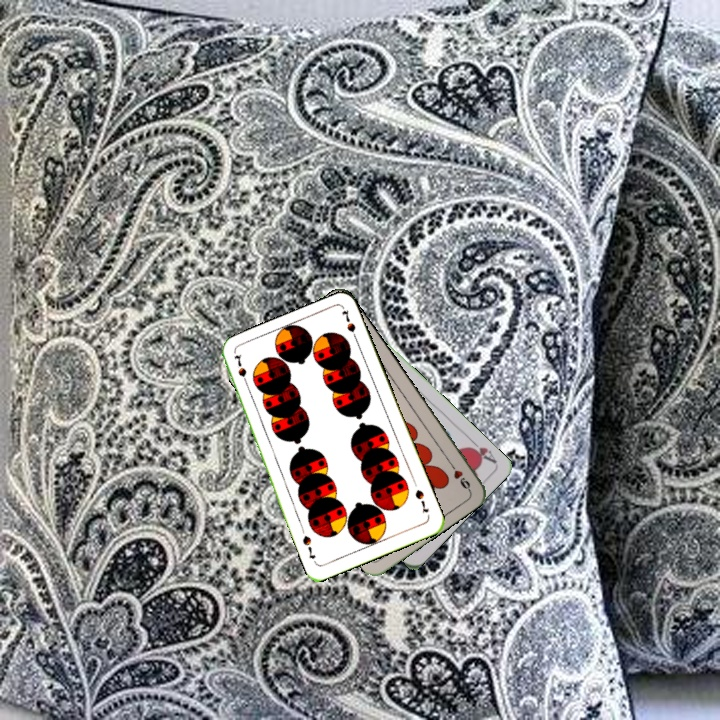H9: (445, 458, 473, 493)
HA: (463, 434, 499, 466)
S7: (230, 351, 251, 390), (411, 486, 431, 516)
